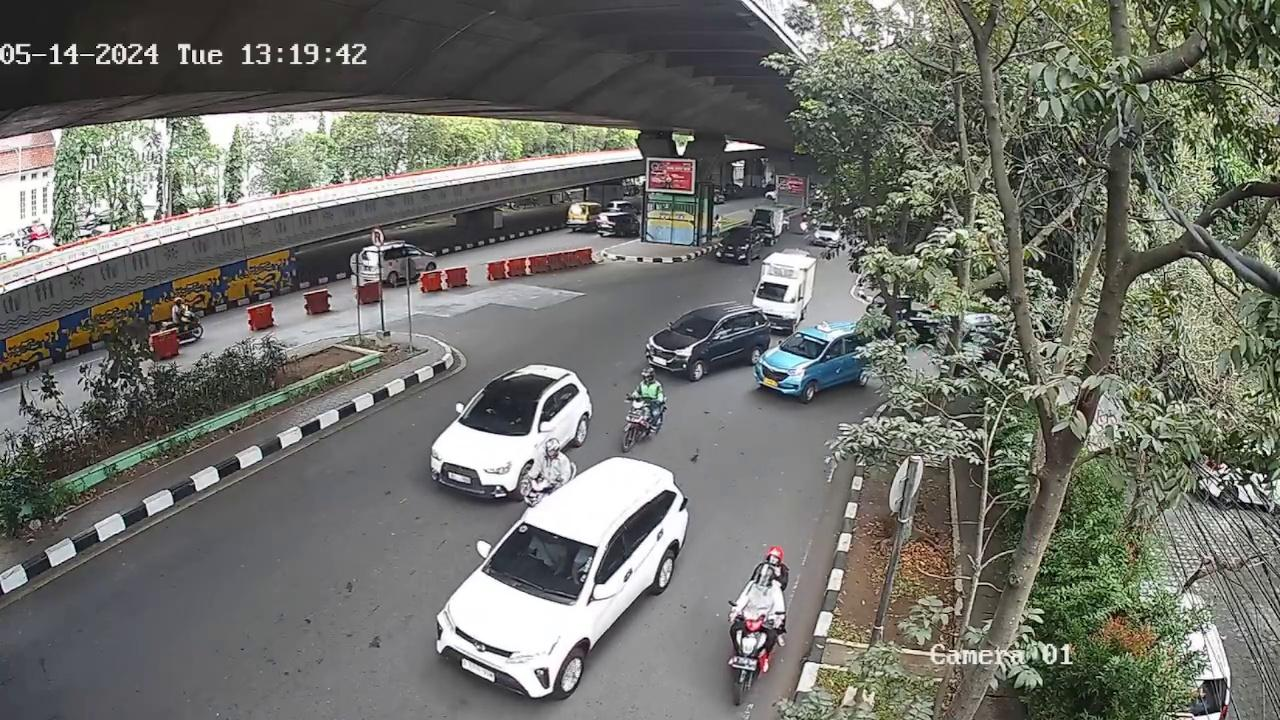pakai: (523, 531, 559, 579)
windshield: (489, 523, 598, 600), (457, 383, 552, 436)
